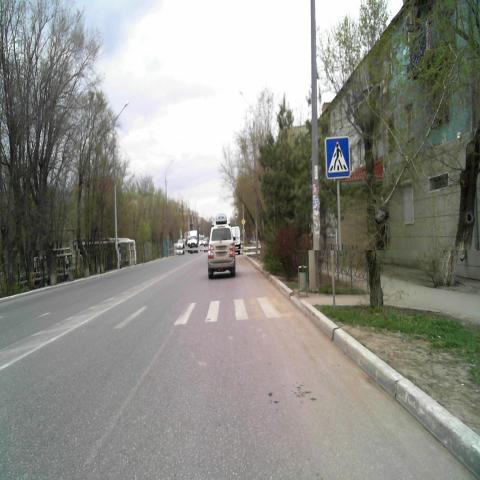5_19_1: (324, 135, 350, 178)
